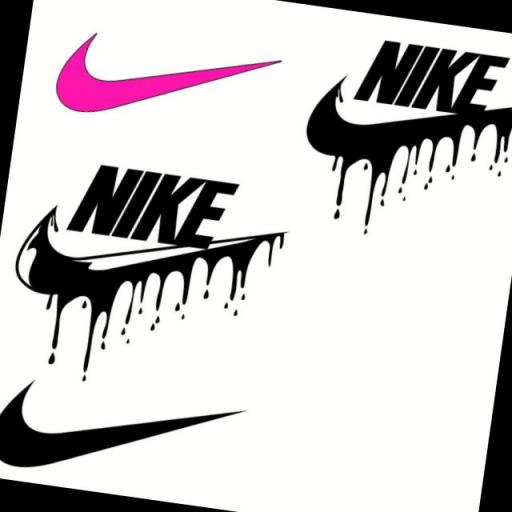Nike: (0, 373, 249, 498), (354, 34, 508, 121)
